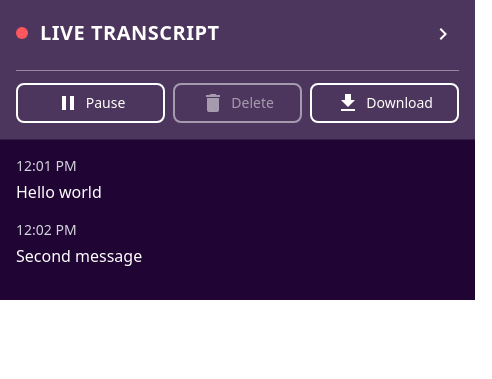
Test case: Transcript › Transcript Controls › shows error message when download fails
Click the button with aria-label "Download transcript".
click(385, 103)  # box [310,83,459,123]
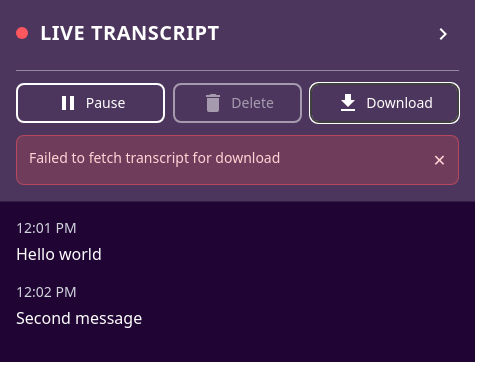
Now the text "Failed to fetch transcript for download" is shown, box [29,148,280,168]
